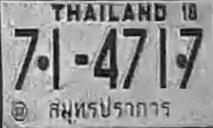1: (158, 26, 167, 88), (52, 28, 60, 90)
4: (93, 26, 117, 88)
7: (176, 26, 203, 88), (14, 28, 39, 90), (122, 27, 146, 88)
SPK: (42, 93, 174, 125)
